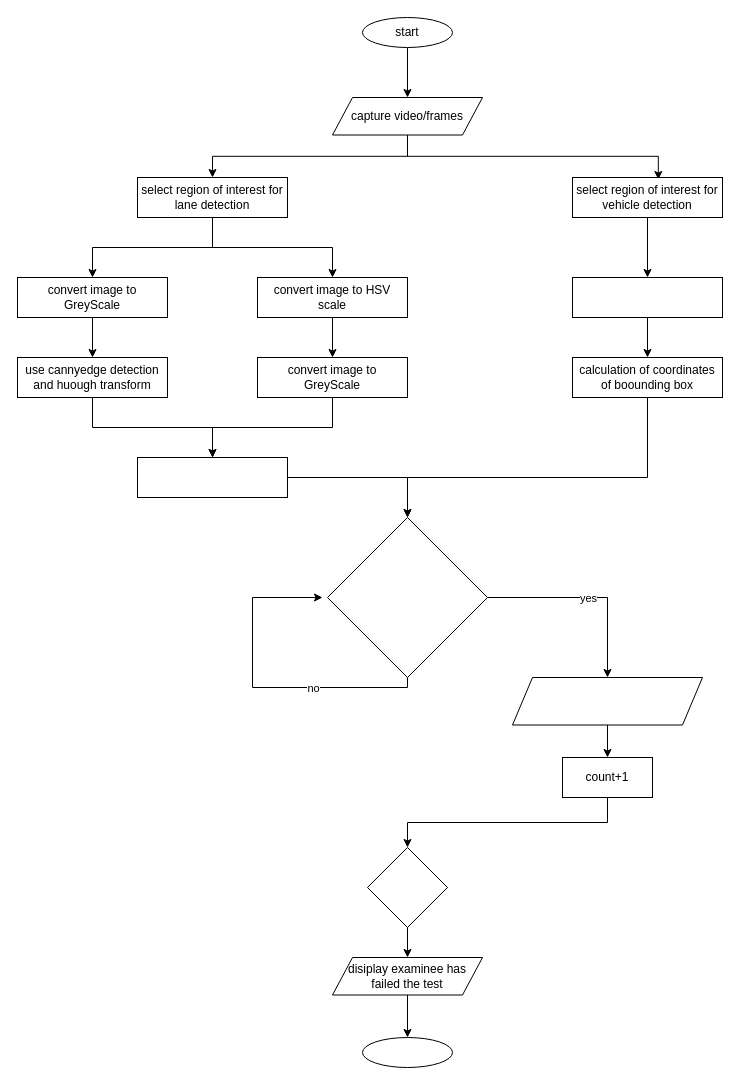
The diagram is 740 pixels wide and 1085 high, and some of its shapes have lost their labels. The centre of each missing label's shape, as x and y in pixels:
check whether the coordinates of lane and vehicle overlap?: the point at 407,597
detection of vehicle using YOLO: the point at 647,297
display the car touched the line: the point at 607,700
fuse lane features to output lane lines with coordinates: the point at 212,477
is count >=2?: the point at 407,887
stop: the point at 407,1052
